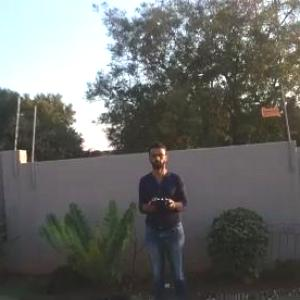follow: (133, 137, 191, 299)
